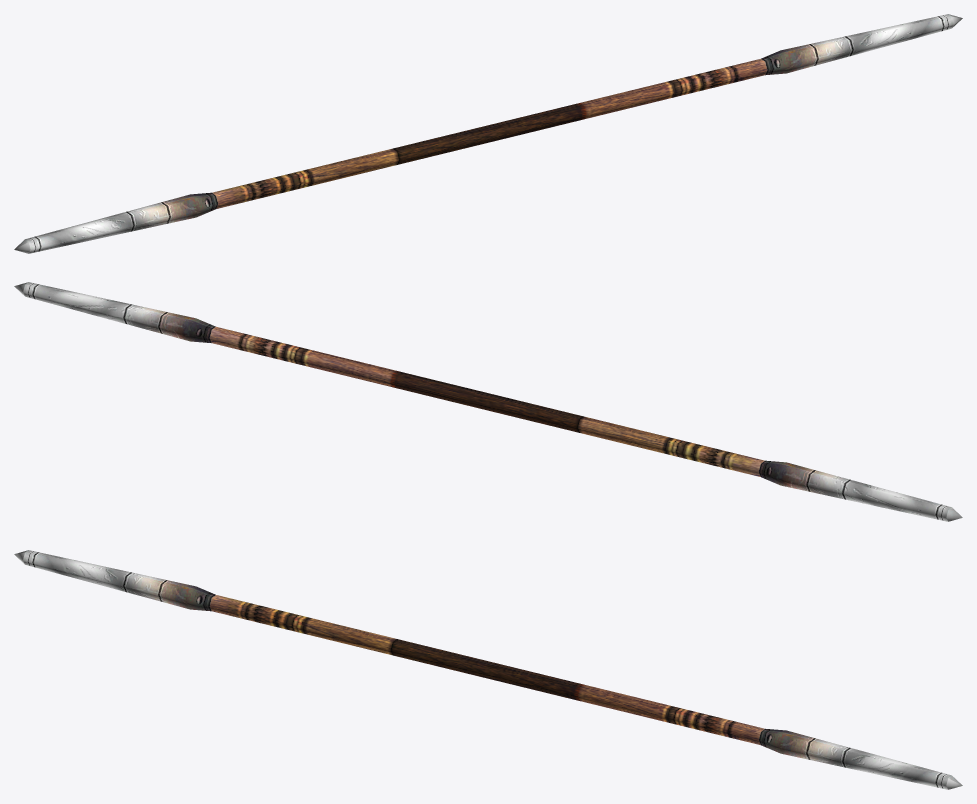
The picture shows the model from 3 angles, top to bottom: view 1: azimuth 30°, elevation 25°; view 2: azimuth 150°, elevation 25°; view 3: azimuth 330°, elevation 25°; orthographic projection.
Visible parts, largest first — view 1: it10508; view 2: it10508; view 3: it10508.
Part boxes in pixels (box(x1,y1,x2,y2)): it10508: box(14, 14, 962, 253); it10508: box(14, 282, 962, 521); it10508: box(14, 550, 962, 789).
Size of the model in its own units: 6.43 by 0.1216 by 0.1404.
Materials: 2 (2 with a texture image).
